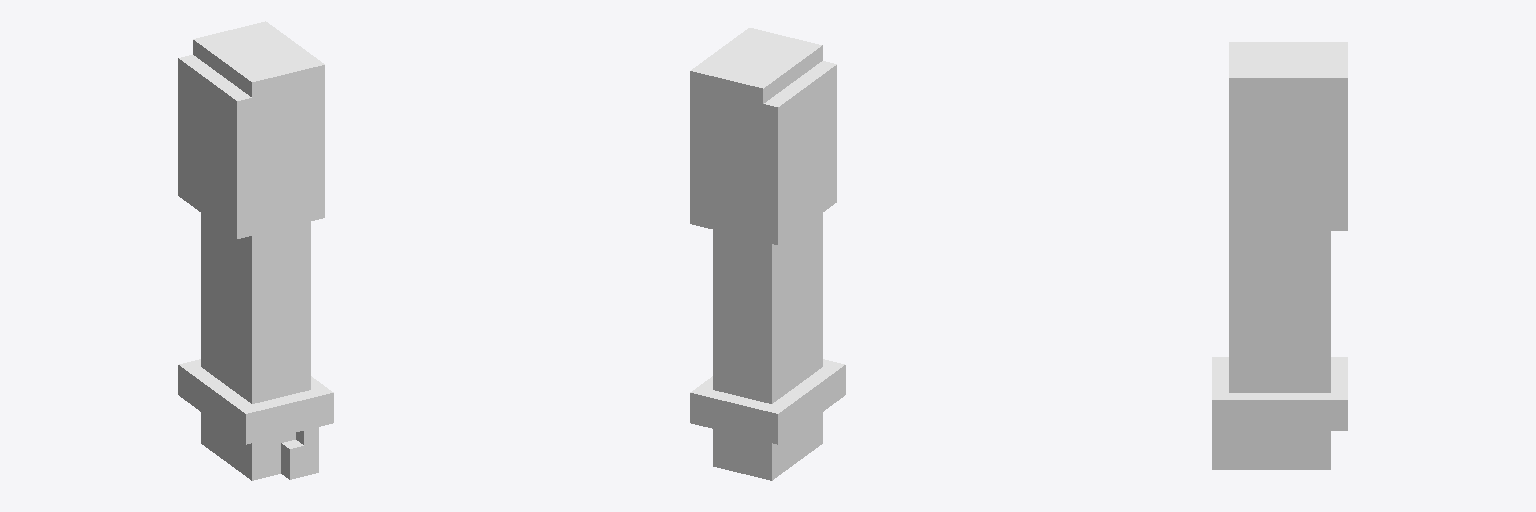
The model's file is Girl-2.obj.
3 views of the same model, side by side, from view 1: azimuth 30°, elevation 25°; view 2: azimuth 150°, elevation 25°; view 3: azimuth 270°, elevation 25° (orthographic).
Visible parts, largest first — view 1: object 1; view 2: object 1; view 3: object 1.
Boxes of the visible parts, x1,y1,x2,y2 form: object 1: [178, 21, 333, 480]; object 1: [690, 28, 845, 480]; object 1: [1212, 42, 1347, 469].
Bounding box in the file's own units: 0.6 × 2.6 × 0.8.